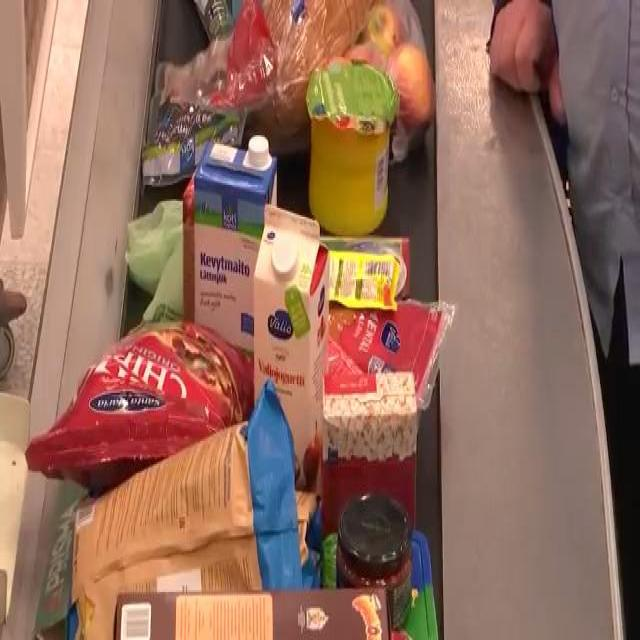beverage: (254, 203, 326, 489), (192, 138, 278, 362)
food-box: (33, 398, 304, 640), (35, 322, 255, 484), (232, 0, 374, 148), (110, 579, 395, 640), (143, 35, 254, 188), (318, 369, 418, 536), (307, 55, 399, 226), (314, 294, 430, 404), (334, 492, 413, 618), (320, 249, 398, 313)
fruit: (342, 0, 438, 148)
